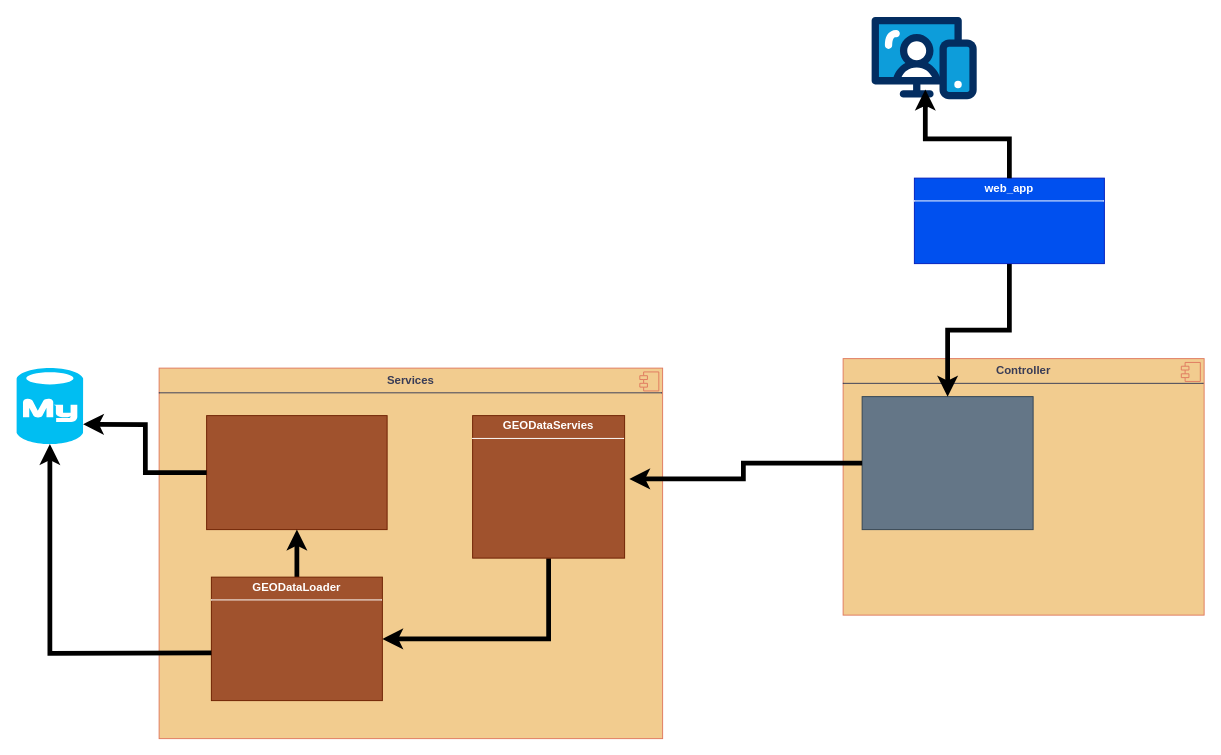
The diagram is 1221 pixels wide and 755 high, and some of its shapes have lost their labels. Here are the shapes that lost their labels. From the top down, the centre of each, then its label:
(296,472): DatabaseOperations
(947,463): GEOController
